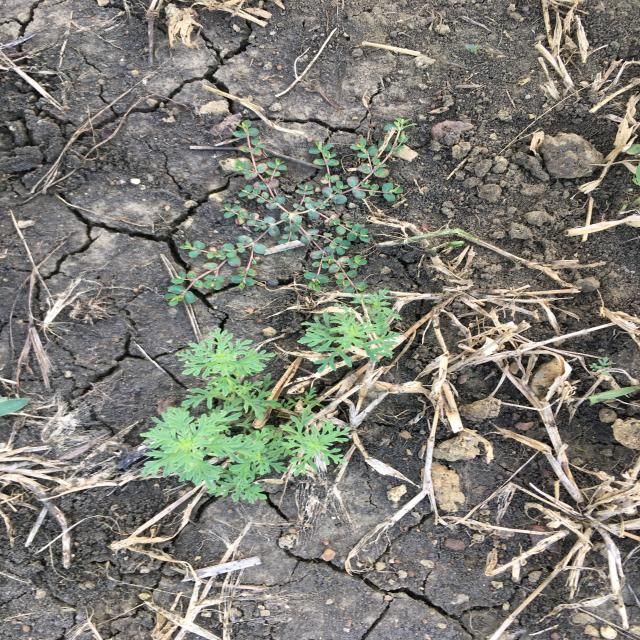Ragweed: (138, 326, 356, 506), (294, 287, 406, 373)
SpottedSpurge: (162, 114, 420, 309)
